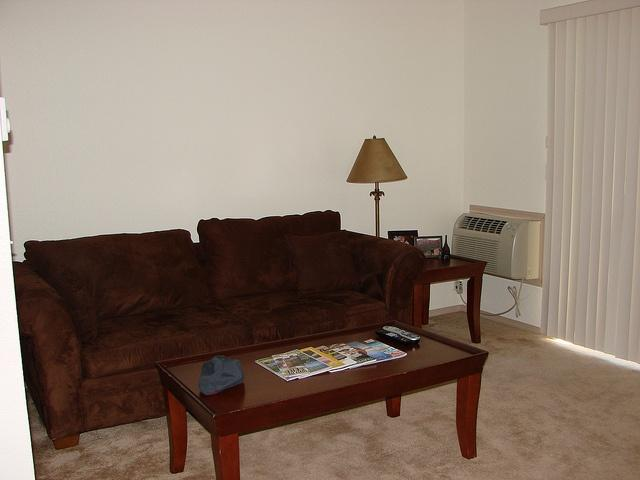Meja: (154, 319, 488, 479)
